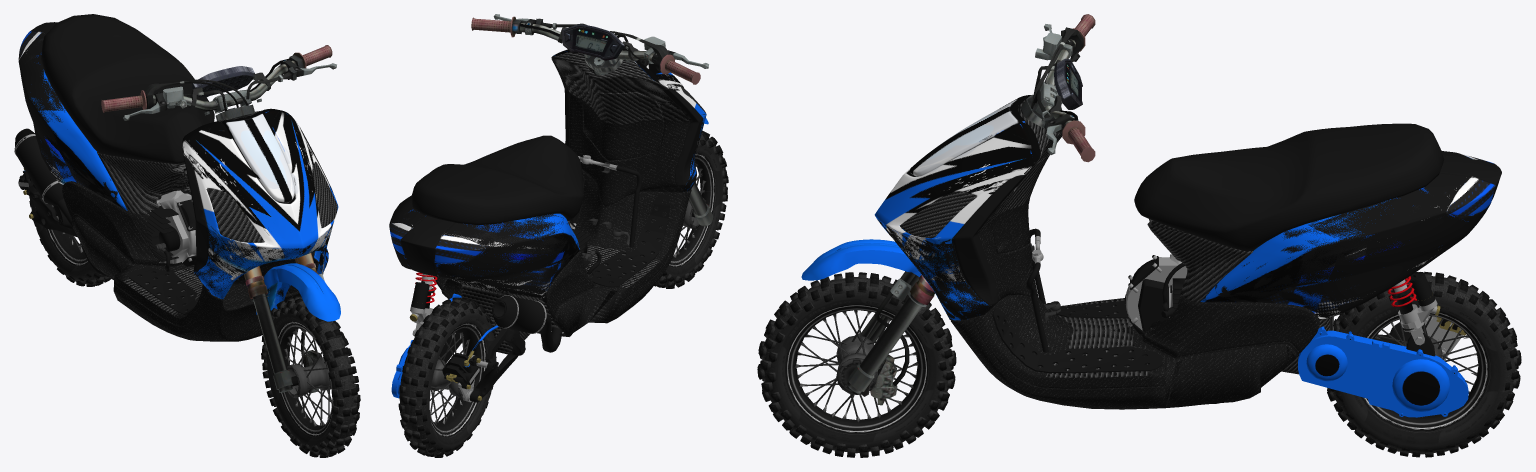
The model's file is MotoScooter.fbx.
The picture shows the model from 3 angles, left to right: view 1: azimuth 30°, elevation 25°; view 2: azimuth 150°, elevation 25°; view 3: azimuth 270°, elevation 25°; orthographic projection. The views are drawn at different scales.
Parts seen in each view (by area): view 1: Body, FWheel, Handles, FrontSuspension, RWheel, Rear Suspension; view 2: Body, RWheel, Handles, FWheel, Rear Suspension, FrontSuspension; view 3: Body, FWheel, RWheel, Rear Suspension, FrontSuspension, Handles.
Part boxes in pixels (x1=…): Body: x1=14, y1=14, x2=338, y2=341; FWheel: x1=261, y1=296, x2=360, y2=457; Handles: x1=101, y1=45, x2=336, y2=298; FrontSuspension: x1=251, y1=263, x2=340, y2=393; RWheel: x1=29, y1=196, x2=110, y2=286; Rear Suspension: x1=18, y1=168, x2=77, y2=237; Body: x1=389, y1=48, x2=706, y2=354; RWheel: x1=398, y1=297, x2=497, y2=457; Handles: x1=471, y1=14, x2=708, y2=84; FWheel: x1=654, y1=131, x2=728, y2=288; Rear Suspension: x1=391, y1=281, x2=525, y2=402; FrontSuspension: x1=689, y1=118, x2=713, y2=226; Body: x1=874, y1=95, x2=1501, y2=409; FWheel: x1=757, y1=272, x2=956, y2=457; RWheel: x1=1327, y1=271, x2=1521, y2=457; Rear Suspension: x1=1298, y1=272, x2=1468, y2=417; FrontSuspension: x1=801, y1=239, x2=926, y2=405; Handles: x1=910, y1=14, x2=1095, y2=304.
Bounding box in the file's own units: 99.69 × 134 × 239.
Materials: 9 (5 with a texture image).
